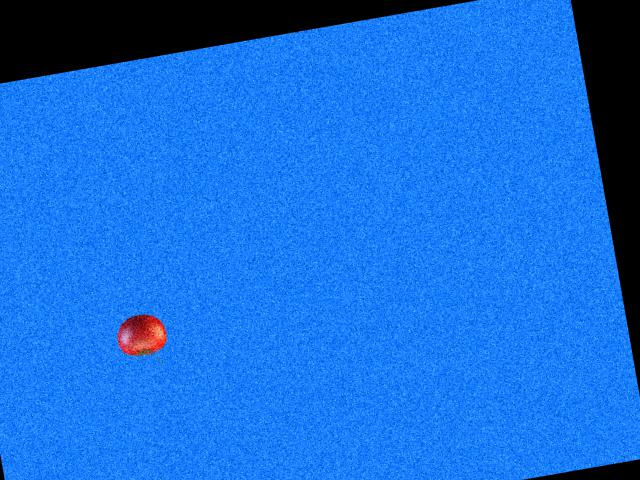tomato: (113, 310, 168, 358)
